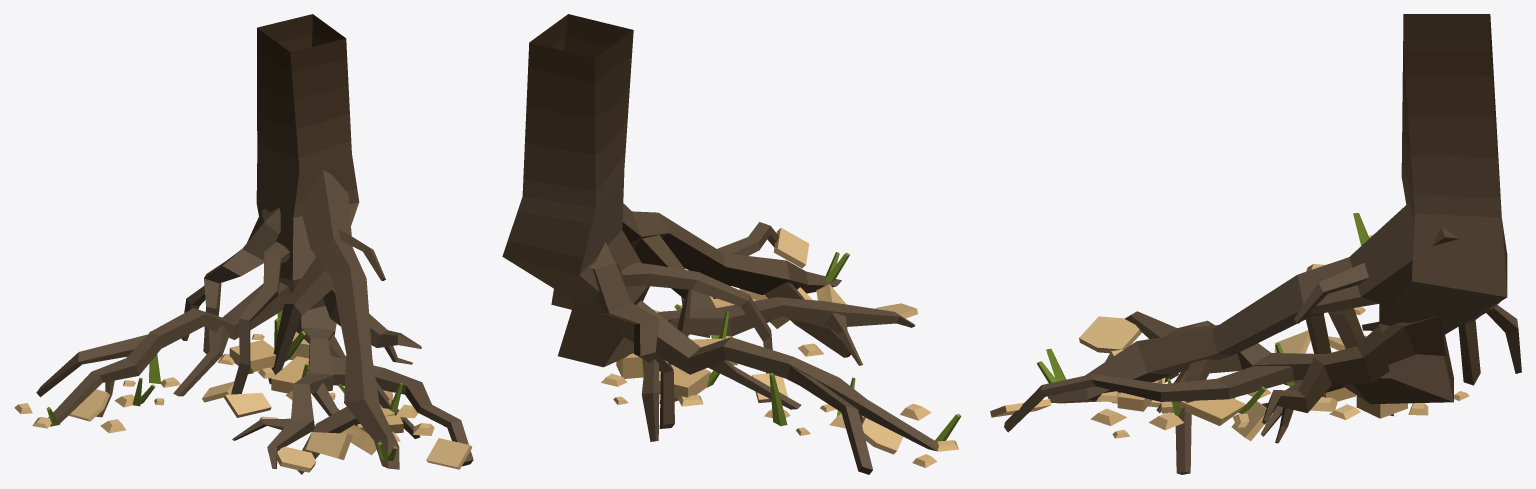
File: ST_Env_Tree_Roots_01.fbx
3 renders of one model, left to right at view 1: azimuth 30°, elevation 25°; view 2: azimuth 150°, elevation 25°; view 3: azimuth 270°, elevation 25°, orthographic. The views are drawn at different scales.
Parts seen in each view (by area): view 1: ST_Env_Tree_Roots_01; view 2: ST_Env_Tree_Roots_01; view 3: ST_Env_Tree_Roots_01.
Part boxes in pixels (x1=…): ST_Env_Tree_Roots_01: x1=14, y1=14, x2=473, y2=474; ST_Env_Tree_Roots_01: x1=502, y1=14, x2=961, y2=474; ST_Env_Tree_Roots_01: x1=990, y1=14, x2=1521, y2=474.
Bounding box in the file's own units: 14.62 × 13.48 × 14.91.
